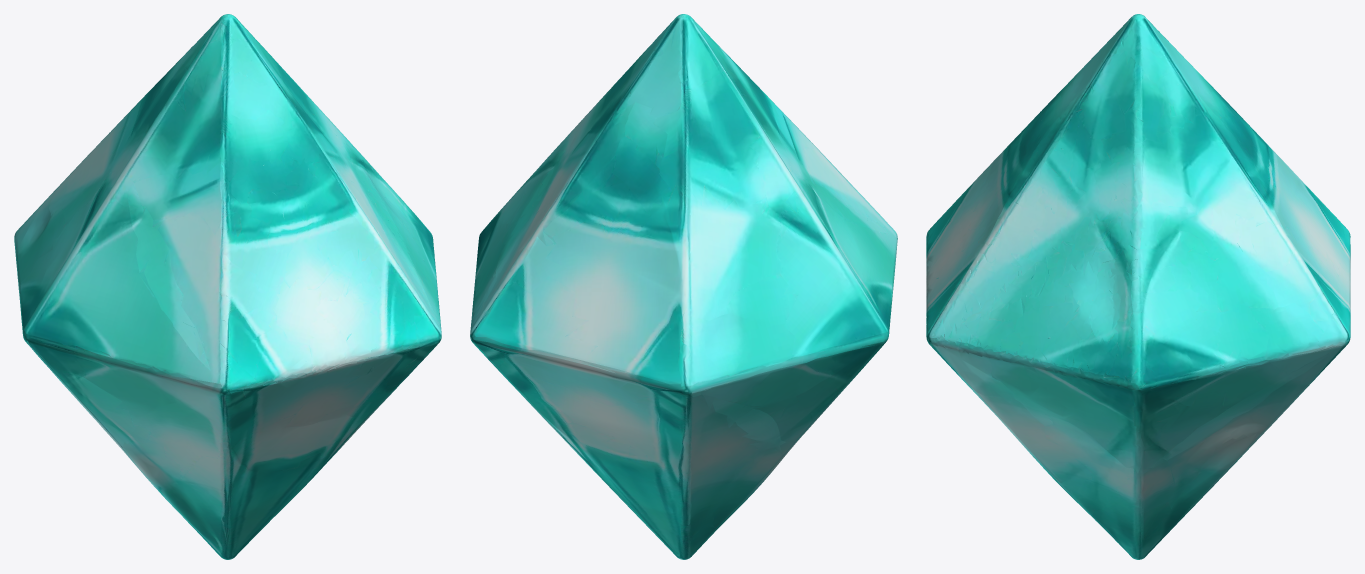
Rendered from gem.glb.
3 renders of one model, left to right at view 1: azimuth 30°, elevation 25°; view 2: azimuth 150°, elevation 25°; view 3: azimuth 270°, elevation 25°, orthographic.
Size of the model in its own units: 1.49 by 1.9 by 1.34.
Materials: 1 (1 with a texture image).
